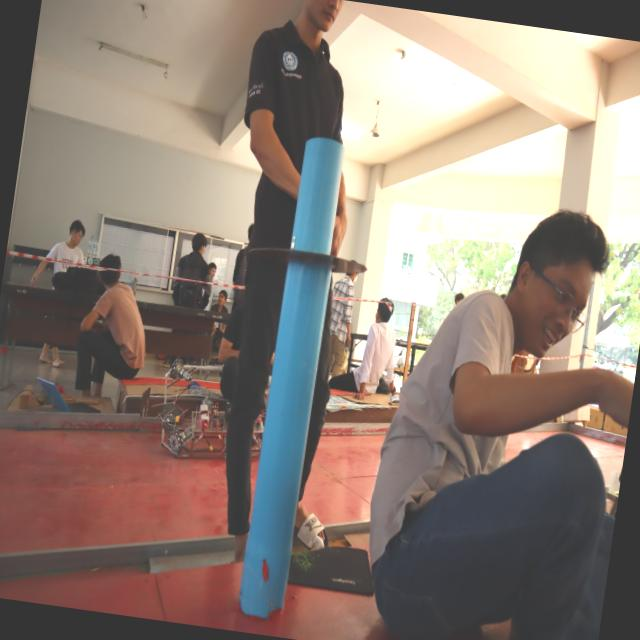pole: (224, 120, 390, 375)
